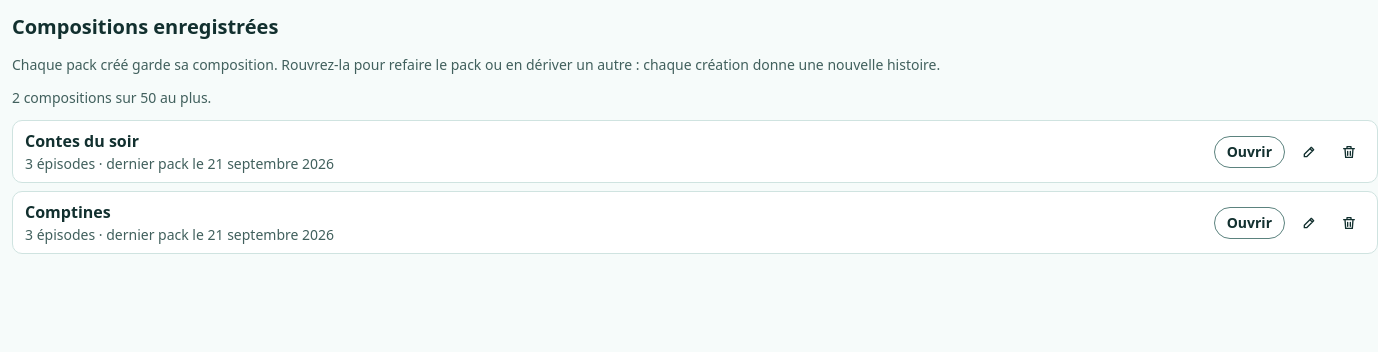
Test: ouvrir une composition disparue : erreur affichée et liste relue
The width and height of the screenshot is (1378, 352).
Click the button with aria-label "Ouvrir « Contes du soir » dans l'éditeur": (1249, 152) [1214,136,1285,168]
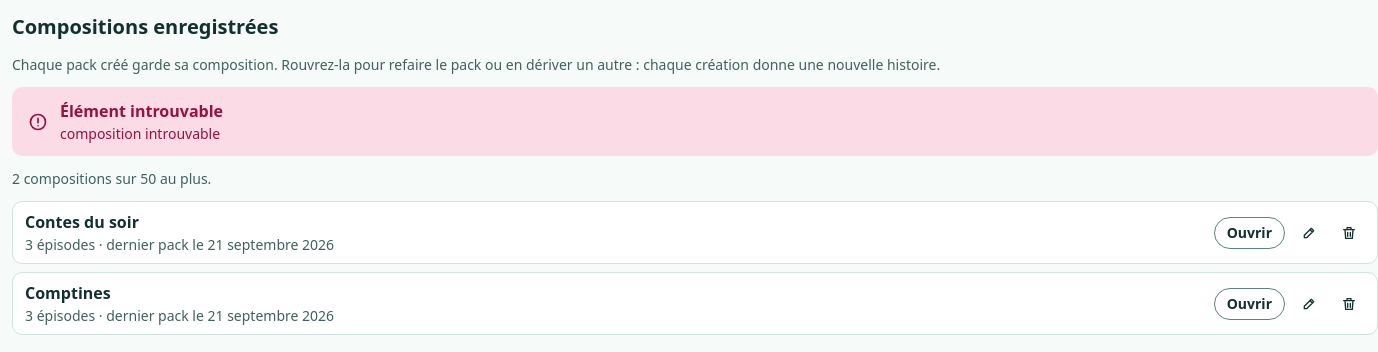
Check: the text "composition introuvable" is shown, box [60,124,220,143]
